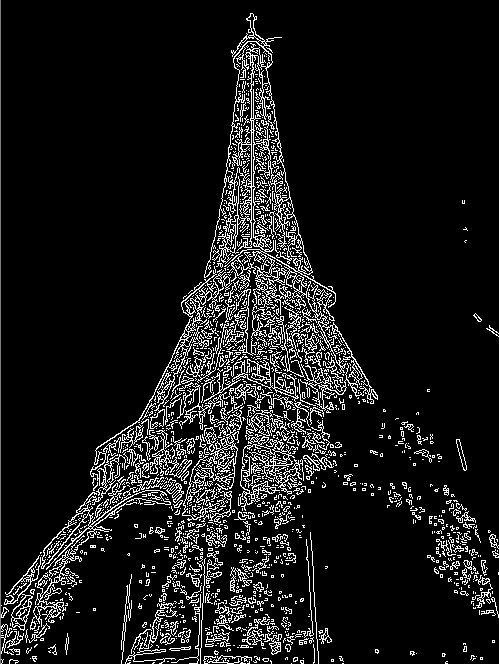eiffel tower: (27, 10, 444, 649)
